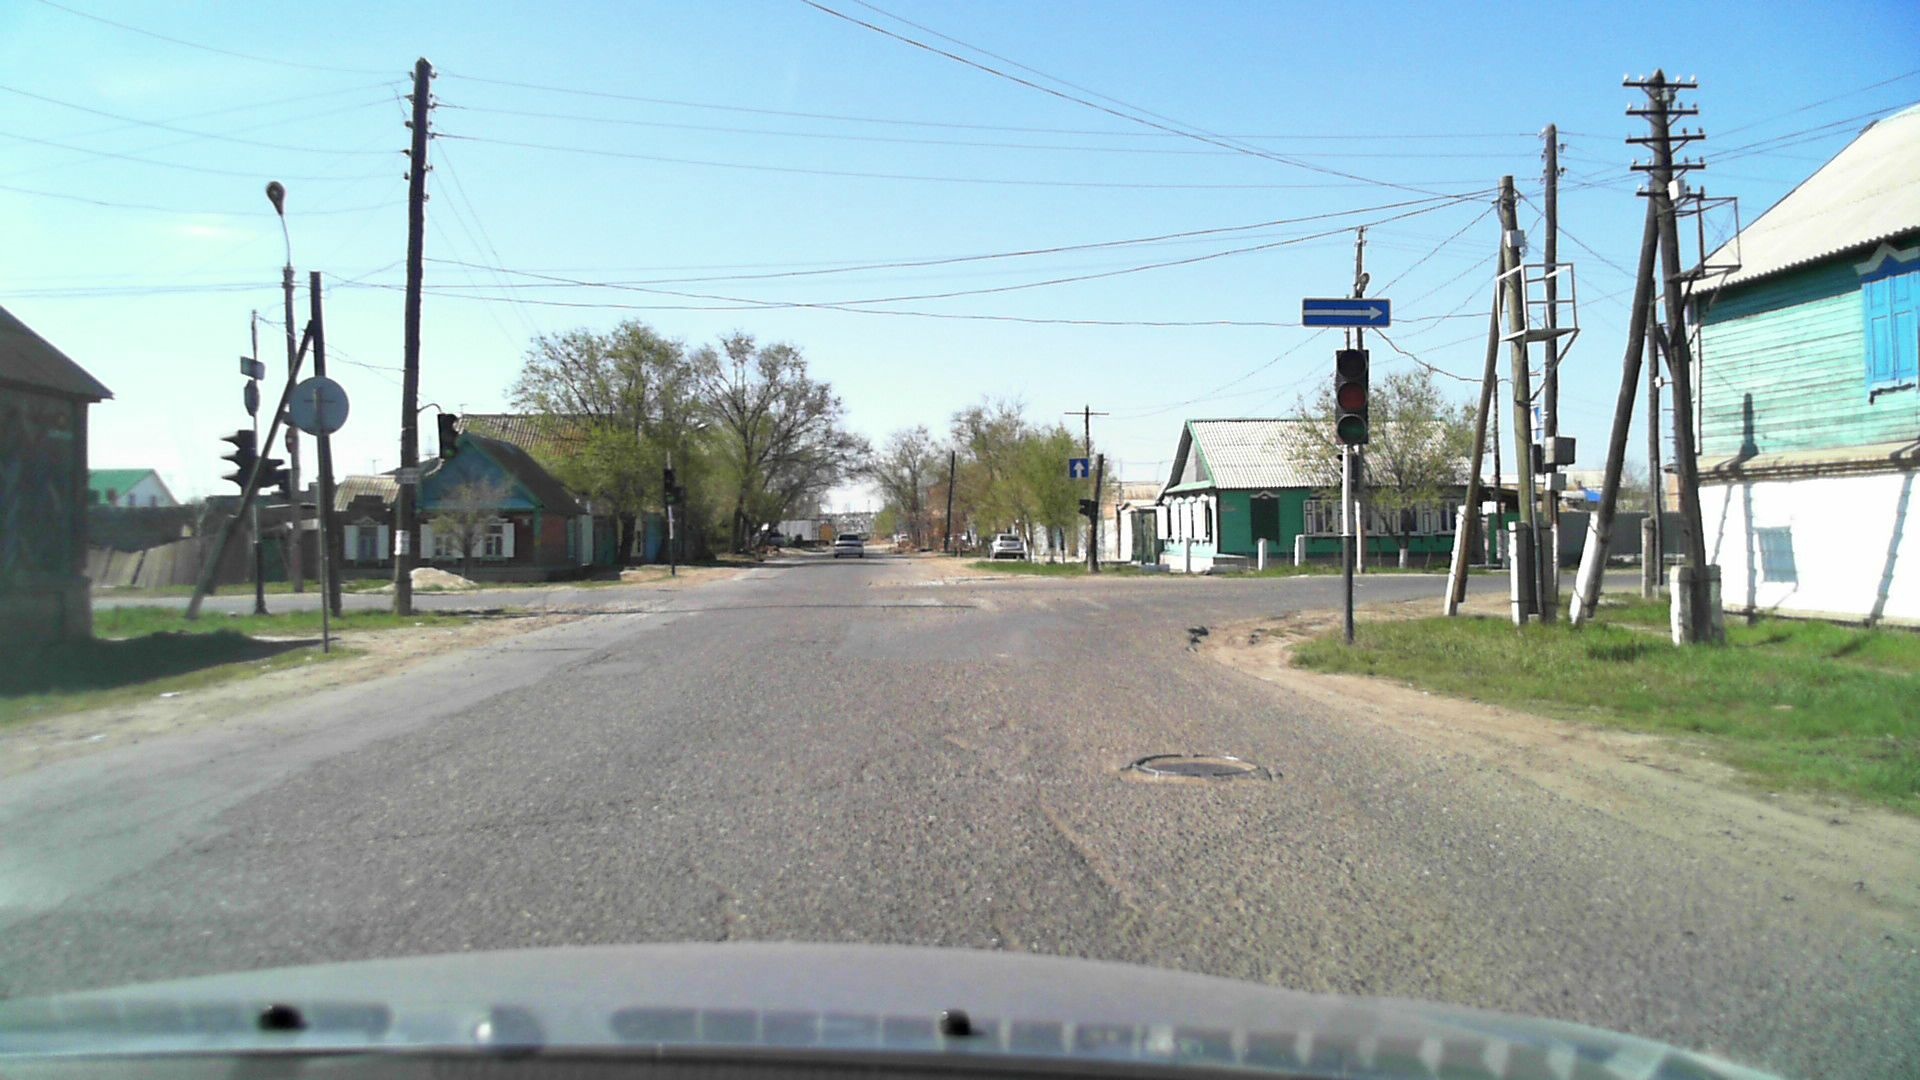One-Way Traffic: (1302, 298, 1391, 327)
